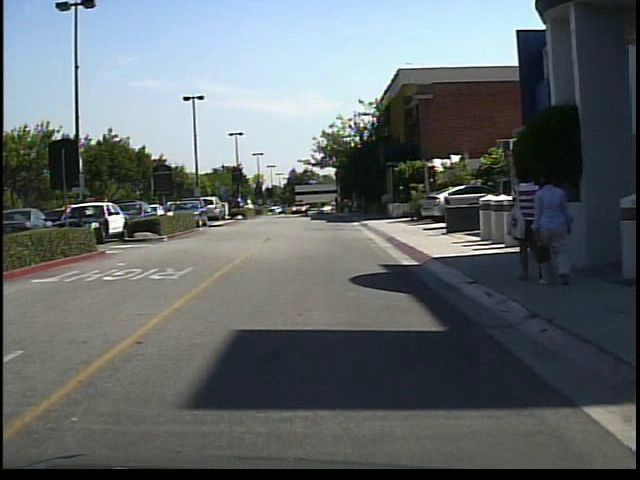person: (530, 166, 577, 286), (510, 163, 541, 286), (243, 192, 259, 220), (328, 195, 340, 221)
